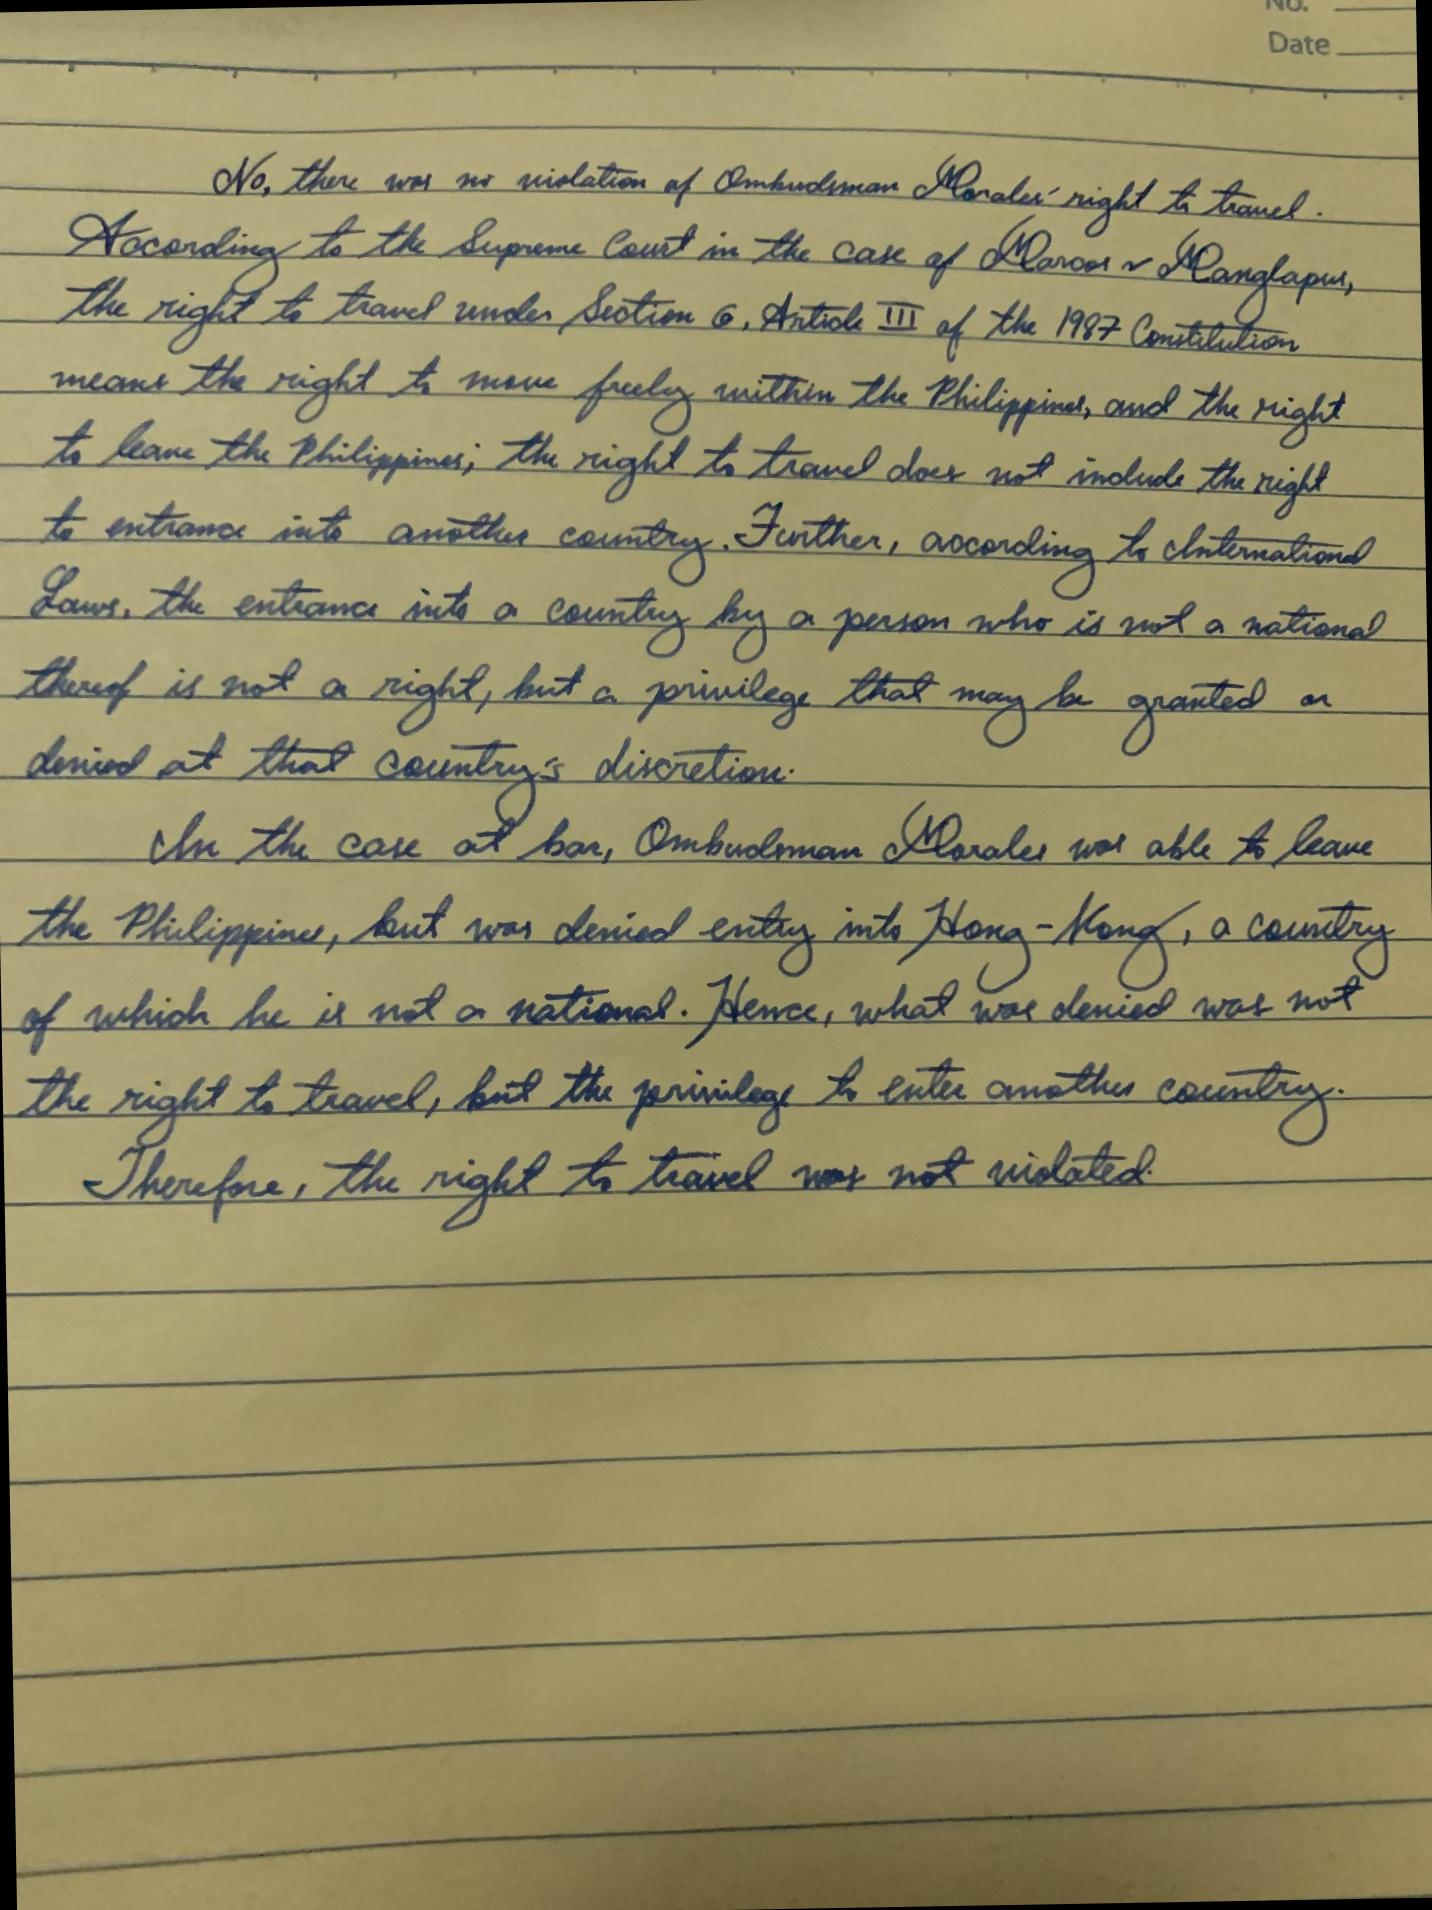text: (62, 180, 1363, 356), (35, 463, 1384, 627), (12, 863, 1399, 1020), (41, 388, 1337, 549), (47, 322, 1352, 480), (14, 629, 1342, 784), (26, 535, 1393, 684), (54, 244, 1307, 391), (9, 1041, 1348, 1176), (206, 125, 1328, 262), (12, 958, 1367, 1063), (143, 785, 1378, 893), (77, 1119, 1163, 1239), (23, 714, 799, 838), (1265, 26, 1334, 62), (1261, 0, 1310, 18)
